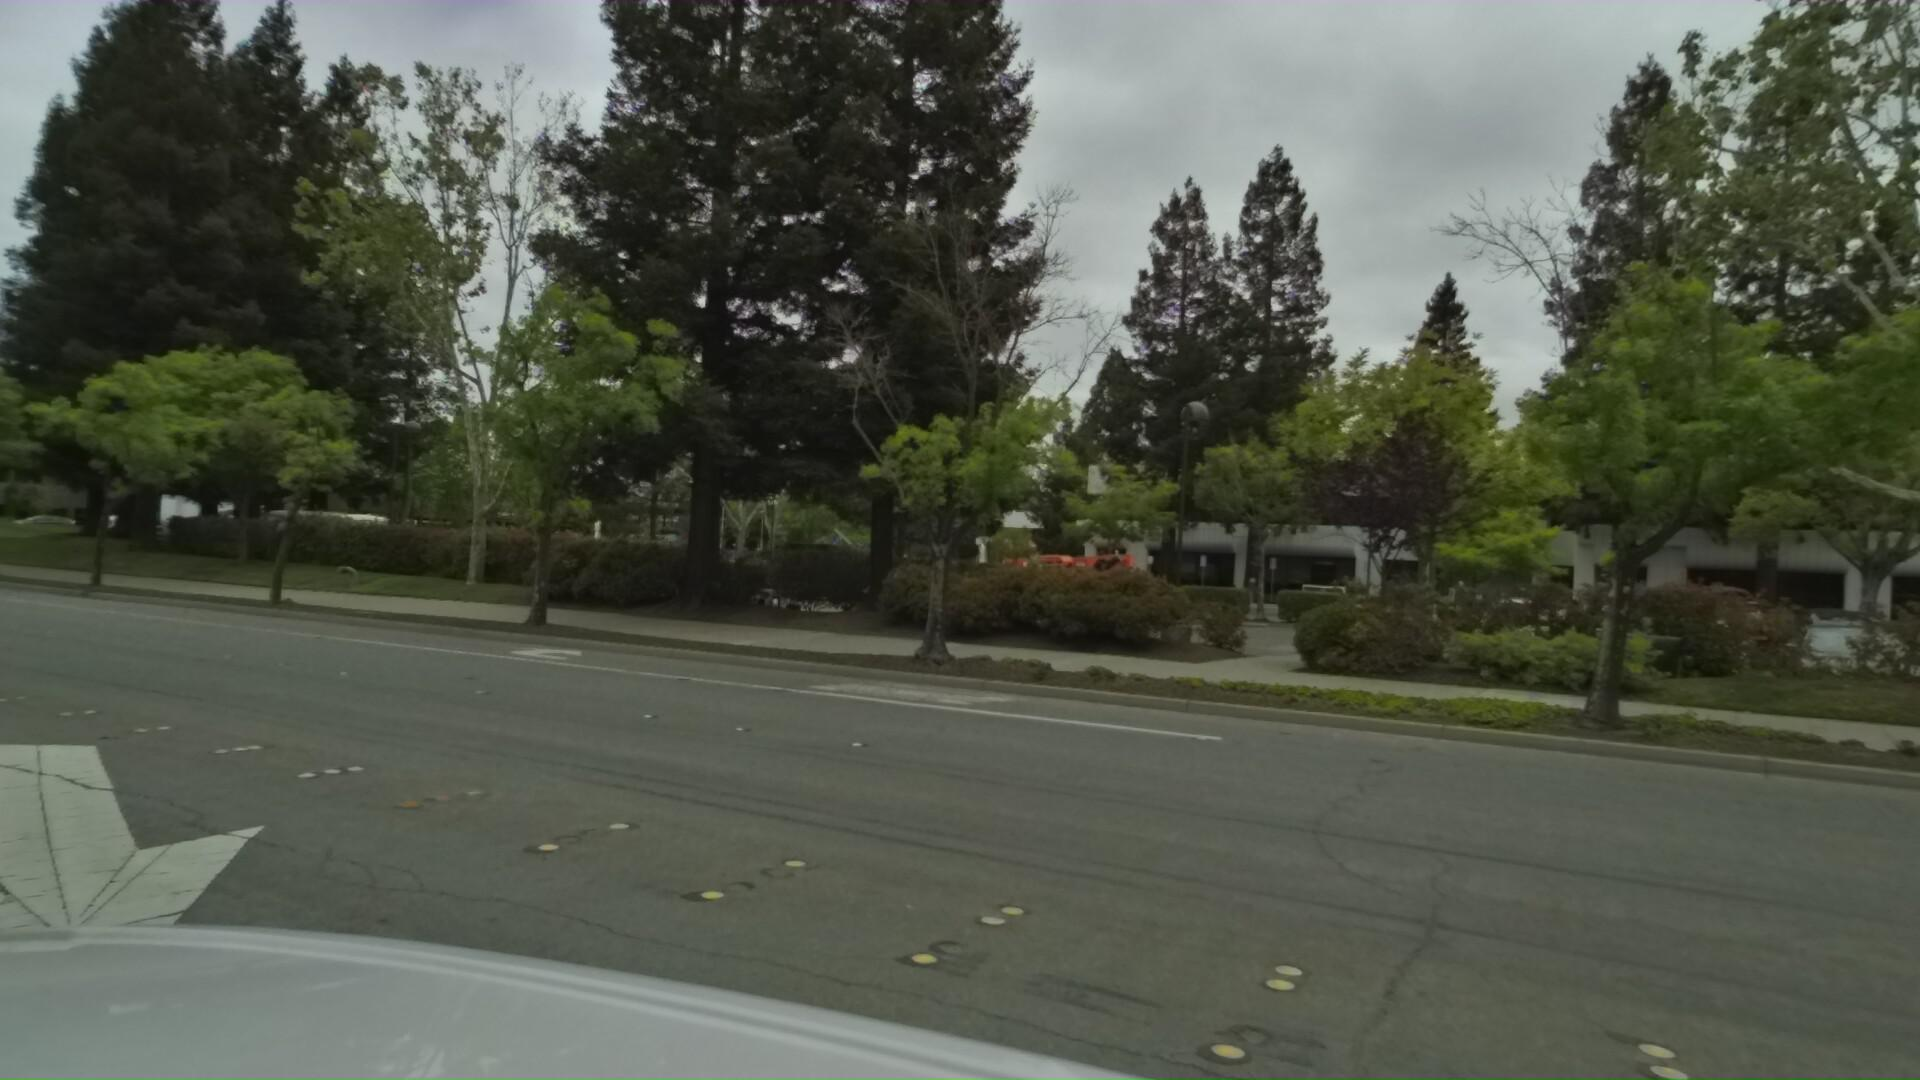car: (1735, 615, 1876, 709)
other_vehicle: (252, 505, 394, 571)
